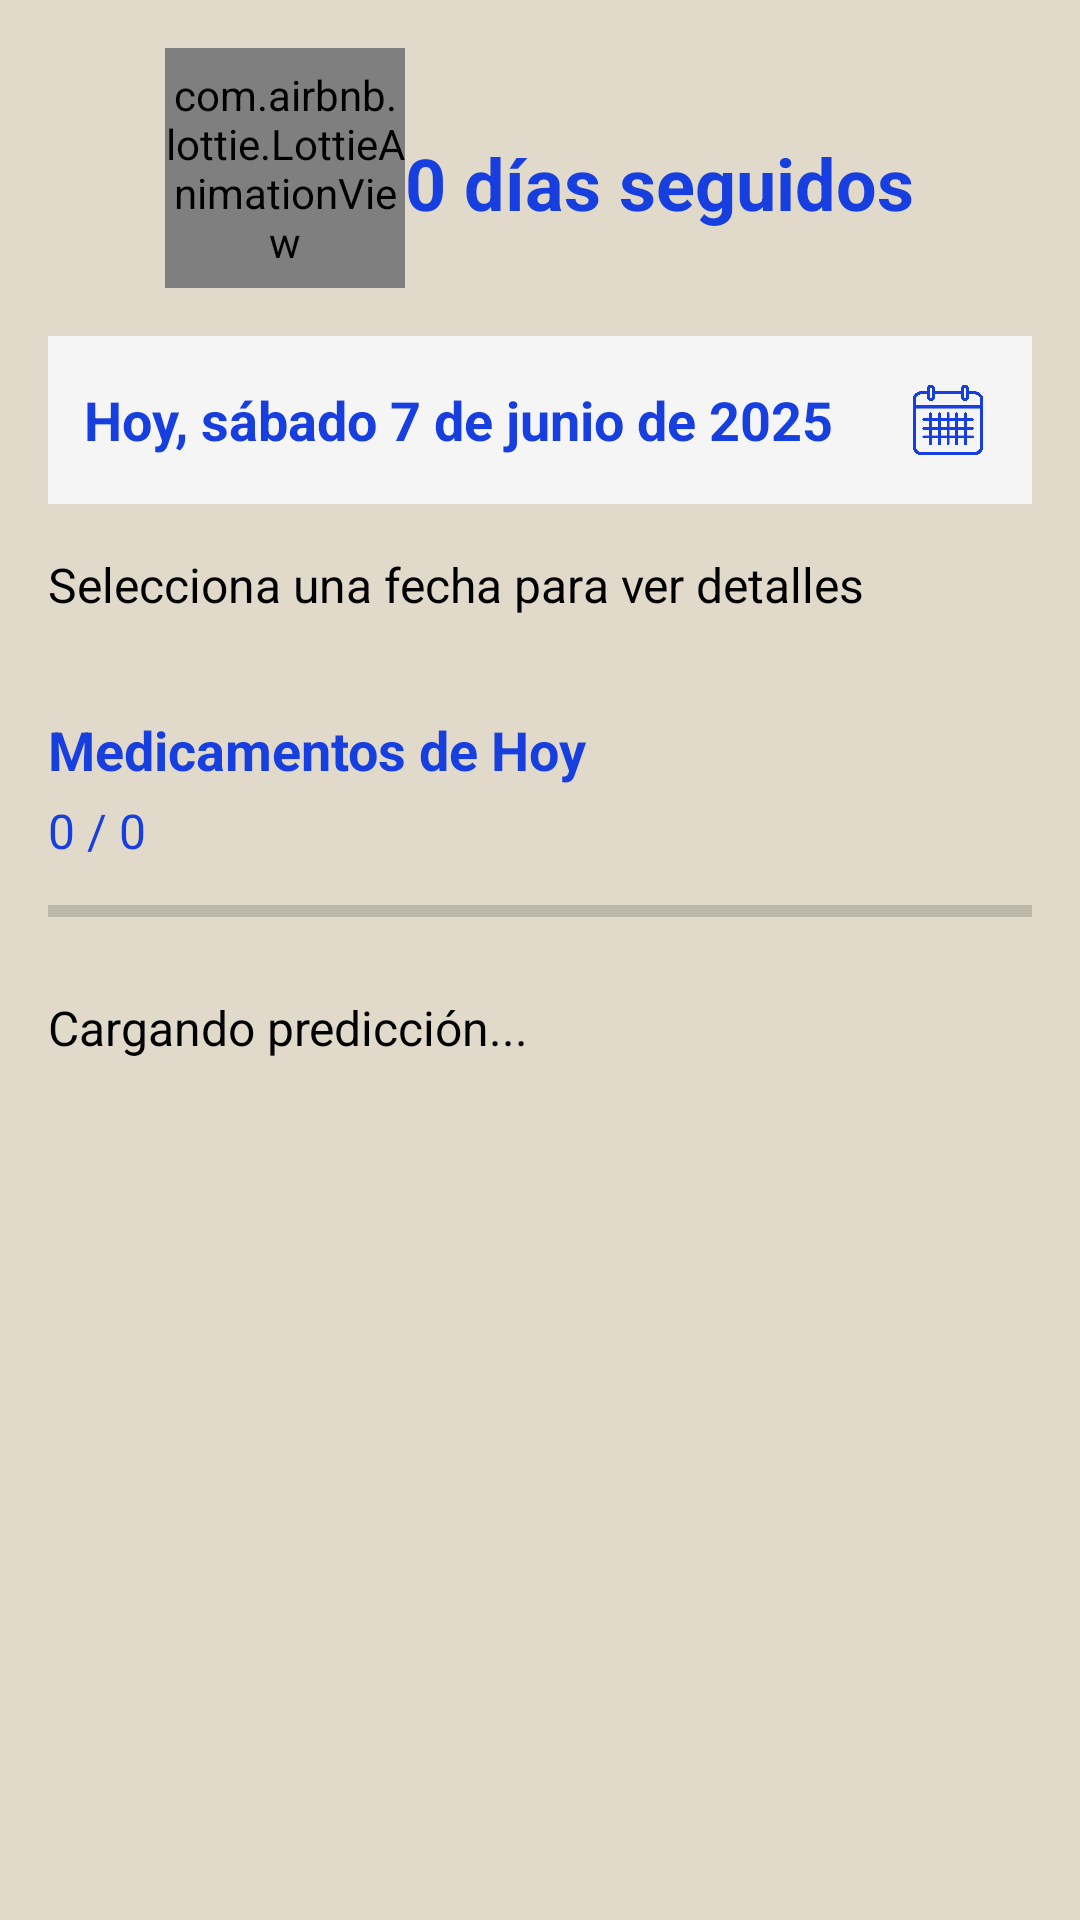

Screen size 1080×1920. Icon name, then its center in pixels as [x,y]:
Abrir selector de fecha: [948,420]
